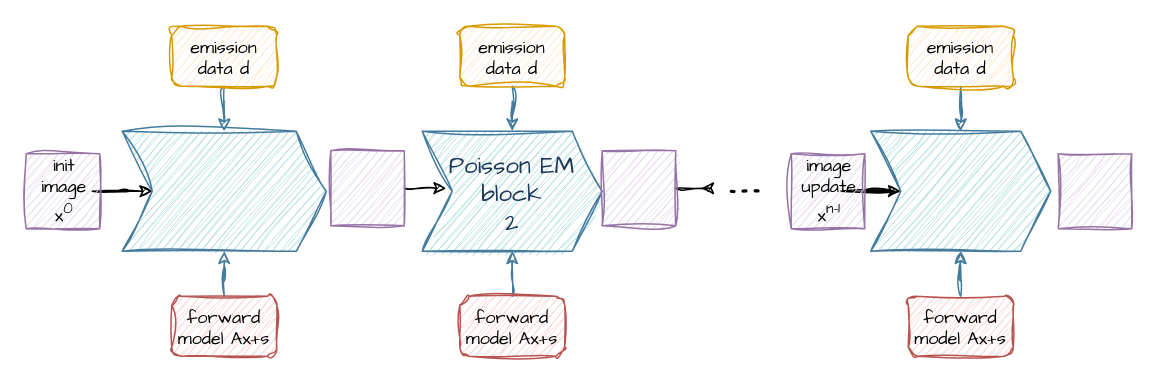
The diagram is 1158 pixels wide and 383 high, and some of its shapes have lost their labels. Here are the shapes that lost their labels. From the top down, the centre of each, then its label:
[223,190]: Poisson EM block 1
[366,187]: image update. x 1
[638,187]: image update x 2
[960,190]: Poisson EM block n
[1094,190]: image update. x n
